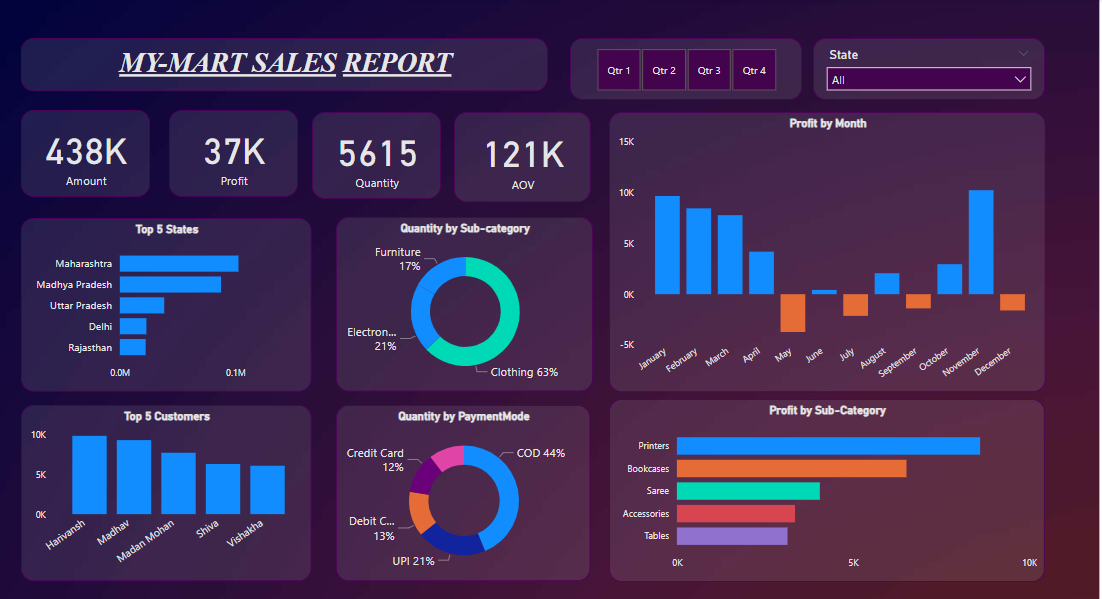

The page's visual inventory and layout, read from the dashboard file:
{"tool":"powerbi","page":{"name":"SalesReport","canvas":[1280,700],"ordinal":0},"visuals":[{"type":"textbox","box":[25.6,45.4,613.2,61.7],"z":0},{"type":"columnChart","fields":{"Category":["Orders.Order Date.Variation.Date Hierarchy.Month"],"Y":["Details.Profit"]},"box":[710,131,508,326],"z":1000},{"type":"barChart","fields":{"Y":["Details.Profit"],"Category":["Details.Sub-Category"]},"box":[710,465,507,213],"z":2000},{"type":"donutChart","title":"Quantity by Sub-category","fields":{"Category":["Details.Category"],"Y":["Details.Quantity"]},"box":[392,254,299,203],"z":3000},{"type":"donutChart","fields":{"Y":["Details.Quantity"],"Category":["Details.PaymentMode"]},"box":[392,473,296,205],"z":4000},{"type":"card","fields":{"Values":["Details.Amount"]},"box":[26,129,150,101],"z":5000},{"type":"card","fields":{"Values":["Details.Profit"]},"box":[198,129,150,101],"z":6000},{"type":"card","fields":{"Values":["Details.Quantity"]},"box":[364,131,150,101],"z":7000},{"type":"card","fields":{"Values":["Details.AOV"]},"box":[529,131,159,105],"z":8000},{"type":"barChart","title":"Top 5 States","fields":{"Category":["Orders.State"],"Y":["Details.Amount"]},"box":[26,255,338,202],"z":9000},{"type":"columnChart","title":"Top 5 Customers","fields":{"Category":["Orders.CustomerName"],"Y":["Details.Amount"]},"box":[26,473,338,205],"z":10000},{"type":"slicer","fields":{"Values":["Orders.Order Date.Variation.Date Hierarchy.Quarter"]},"box":[664.6,45.5,269.7,71.7],"z":11000},{"type":"slicer","fields":{"Values":["Orders.State"]},"box":[947,45,270,72],"z":12000}]}

Visuals, with their boxes in screenshot pixels (x1, y1, x2, y2), scaled from the page's 1280x700 canvas onto the 1102x599 screenshot:
textbox: BBox(22, 39, 550, 92)
columnChart - Orders.Order Date.Variation.Date Hierarchy.Month x Details.Profit: BBox(611, 112, 1049, 391)
barChart - Details.Profit x Details.Sub-Category: BBox(611, 398, 1048, 580)
"Quantity by Sub-category" donutChart: BBox(337, 217, 595, 391)
donutChart - Details.Quantity x Details.PaymentMode: BBox(337, 405, 592, 580)
card - Details.Amount: BBox(22, 110, 152, 197)
card - Details.Profit: BBox(170, 110, 300, 197)
card - Details.Quantity: BBox(313, 112, 443, 199)
card - Details.AOV: BBox(455, 112, 592, 202)
"Top 5 States" barChart: BBox(22, 218, 313, 391)
"Top 5 Customers" columnChart: BBox(22, 405, 313, 580)
slicer - Orders.Order Date.Variation.Date Hierarchy.Quarter: BBox(572, 39, 804, 100)
slicer - Orders.State: BBox(815, 39, 1048, 100)
